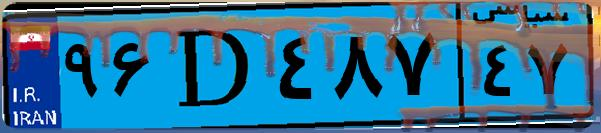4: (270, 28, 330, 110), (475, 38, 525, 113)
6: (110, 28, 158, 98)
7: (385, 28, 445, 110), (525, 38, 570, 115)
8: (330, 28, 385, 110)
9: (57, 26, 110, 100)
D: (158, 12, 270, 120)
